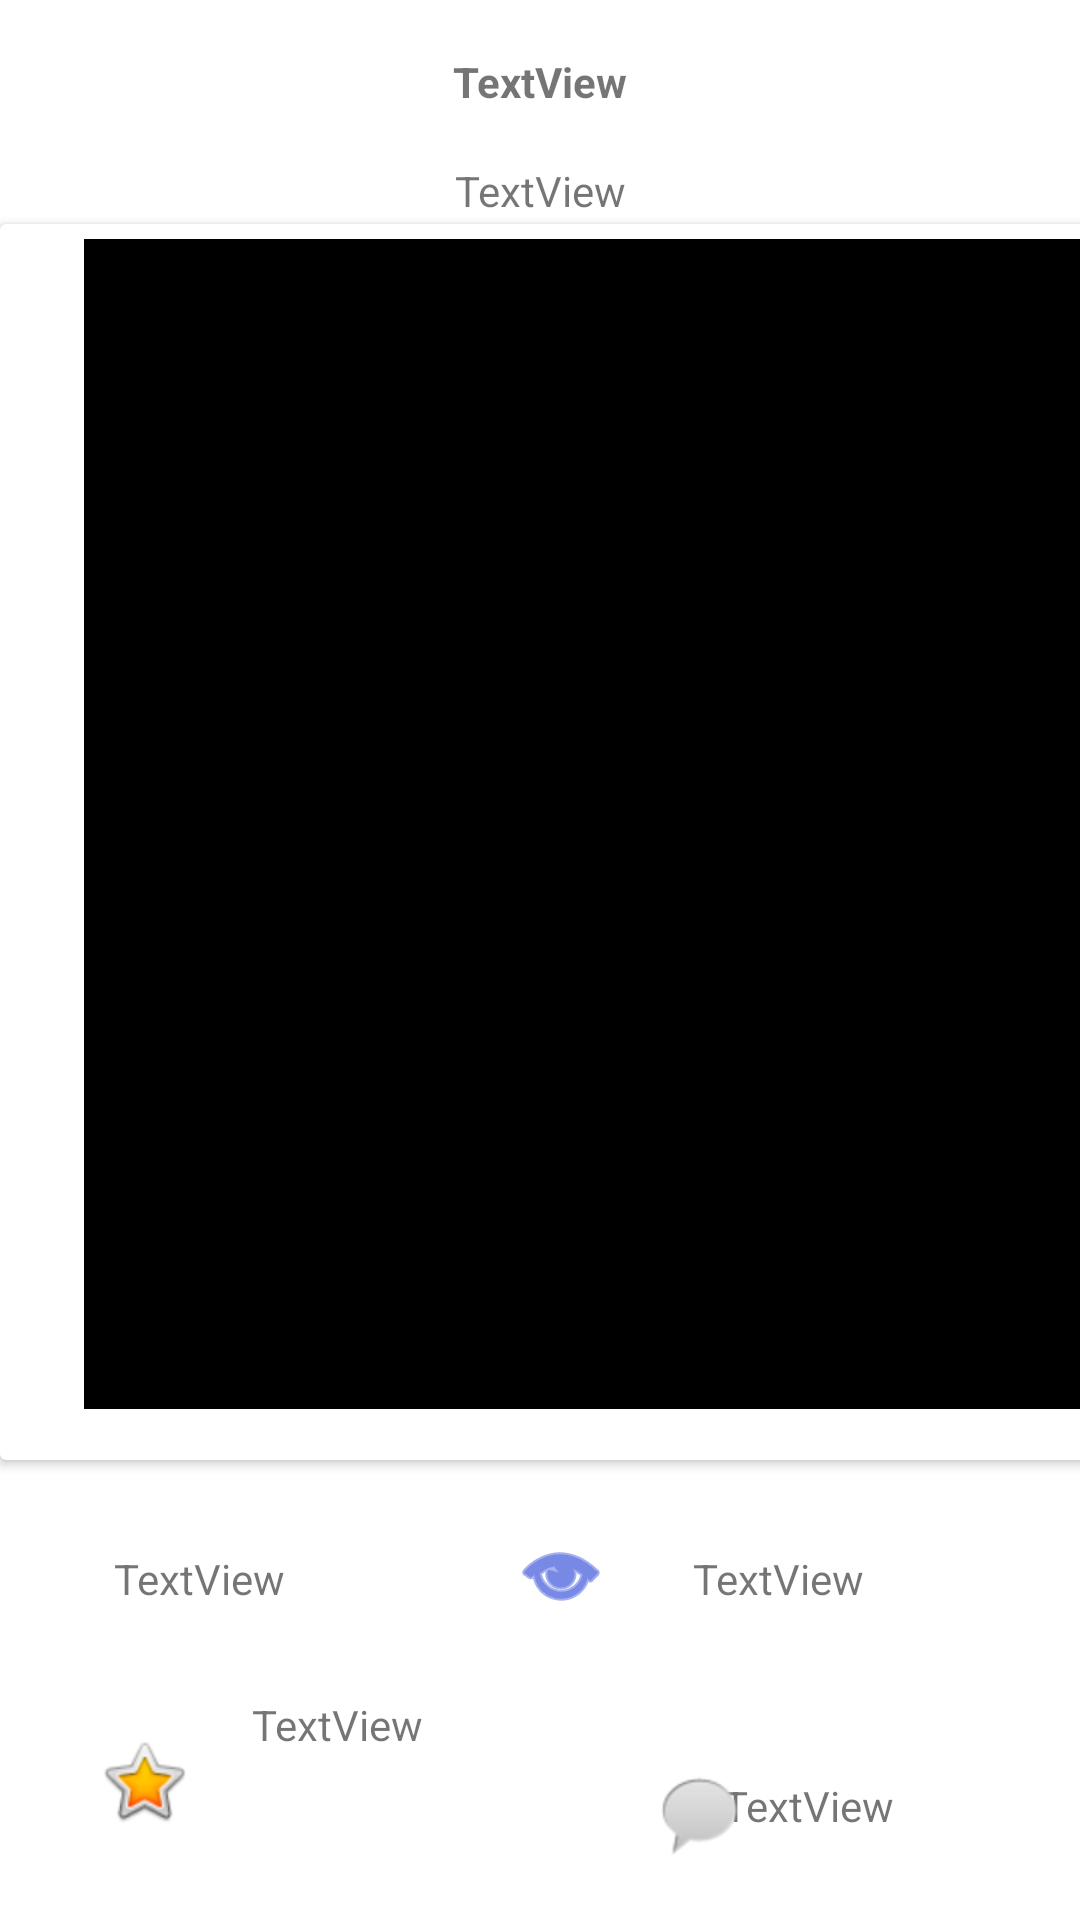

Icon click points for this 1080 × 1920 phone screenshot, format (x=x, y=y):
star on: (x=145, y=1782)
sym action chat: (x=704, y=1815)
